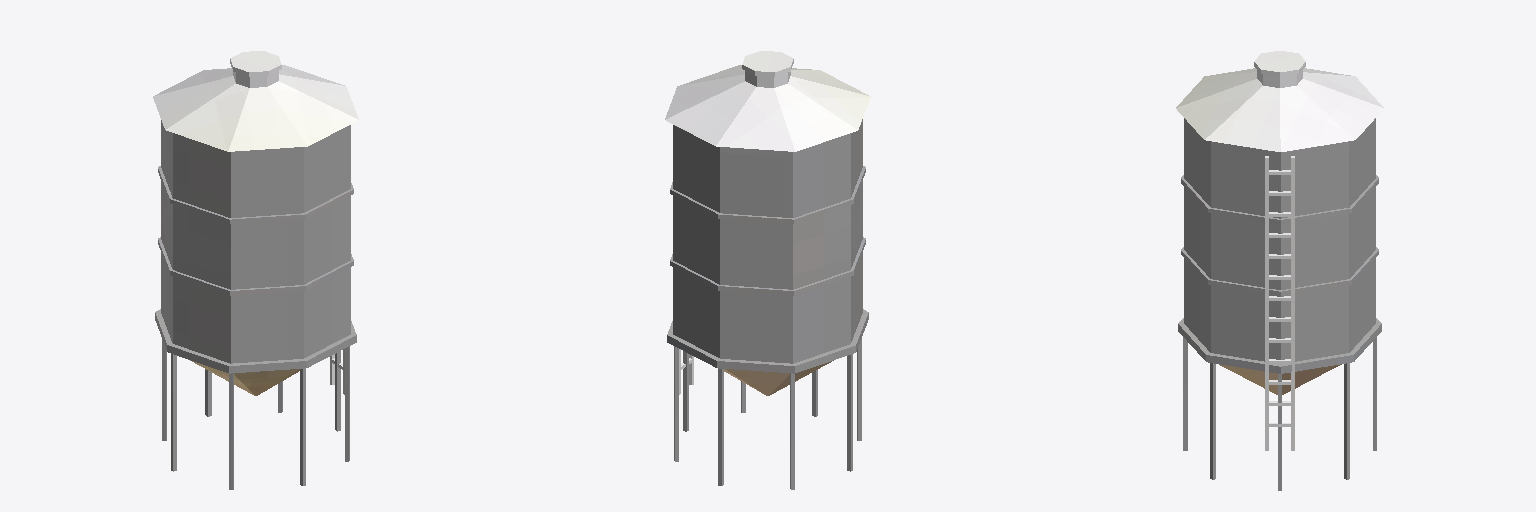
3 renders of one model, left to right at view 1: azimuth 30°, elevation 25°; view 2: azimuth 150°, elevation 25°; view 3: azimuth 270°, elevation 25°, orthographic.
Parts seen in each view (by area): view 1: Cube.015_Cube.022; view 2: Cube.015_Cube.022; view 3: Cube.015_Cube.022.
Boxes of the visible parts, x1,y1,x2,y2 form: Cube.015_Cube.022: [153, 51, 358, 489]; Cube.015_Cube.022: [665, 51, 870, 489]; Cube.015_Cube.022: [1176, 51, 1383, 490].
Size of the model in its own units: 7.47 by 15.33 by 7.47.
Materials: 1 (1 with a texture image).